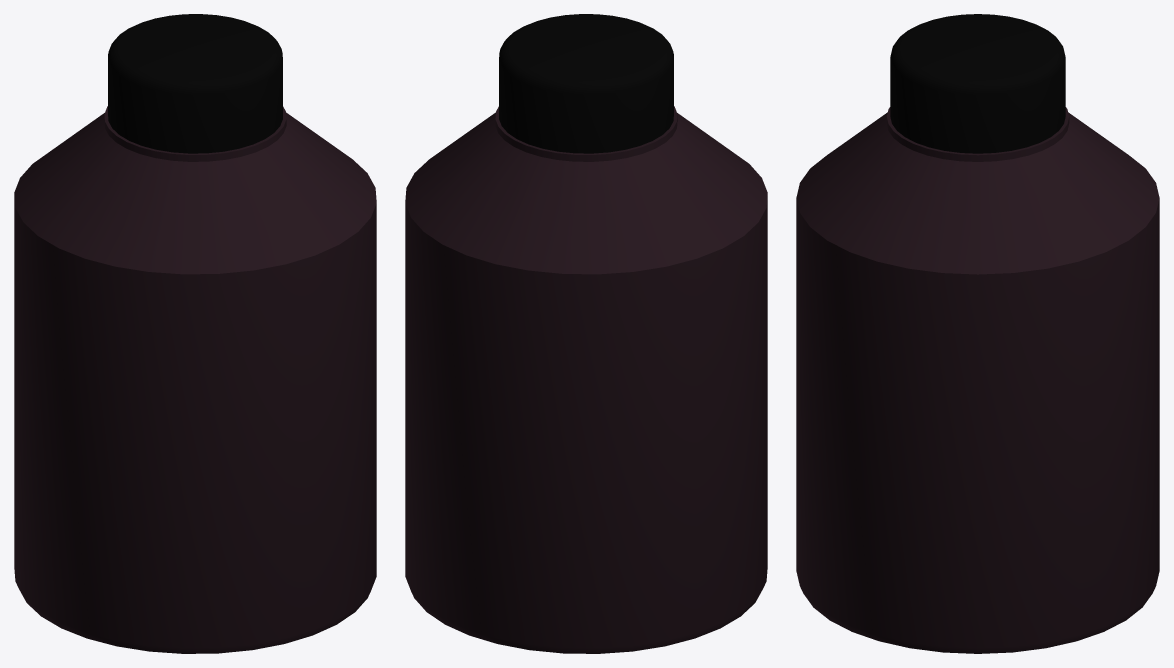
File: chemical_bottle.fbx
3 views of the same model, side by side, from view 1: azimuth 30°, elevation 25°; view 2: azimuth 150°, elevation 25°; view 3: azimuth 270°, elevation 25° (orthographic).
Visible parts, largest first — view 1: Cylinder, Cylinder_Plate; view 2: Cylinder, Cylinder_Plate; view 3: Cylinder, Cylinder_Plate.
Part boxes in pixels (x1,y1,x2,y2): Cylinder: [14, 106, 376, 653]; Cylinder_Plate: [108, 14, 282, 153]; Cylinder: [405, 106, 767, 653]; Cylinder_Plate: [499, 14, 673, 153]; Cylinder: [796, 107, 1159, 653]; Cylinder_Plate: [890, 14, 1065, 153].
Size of the model in its own units: 6 by 9.74 by 6.
